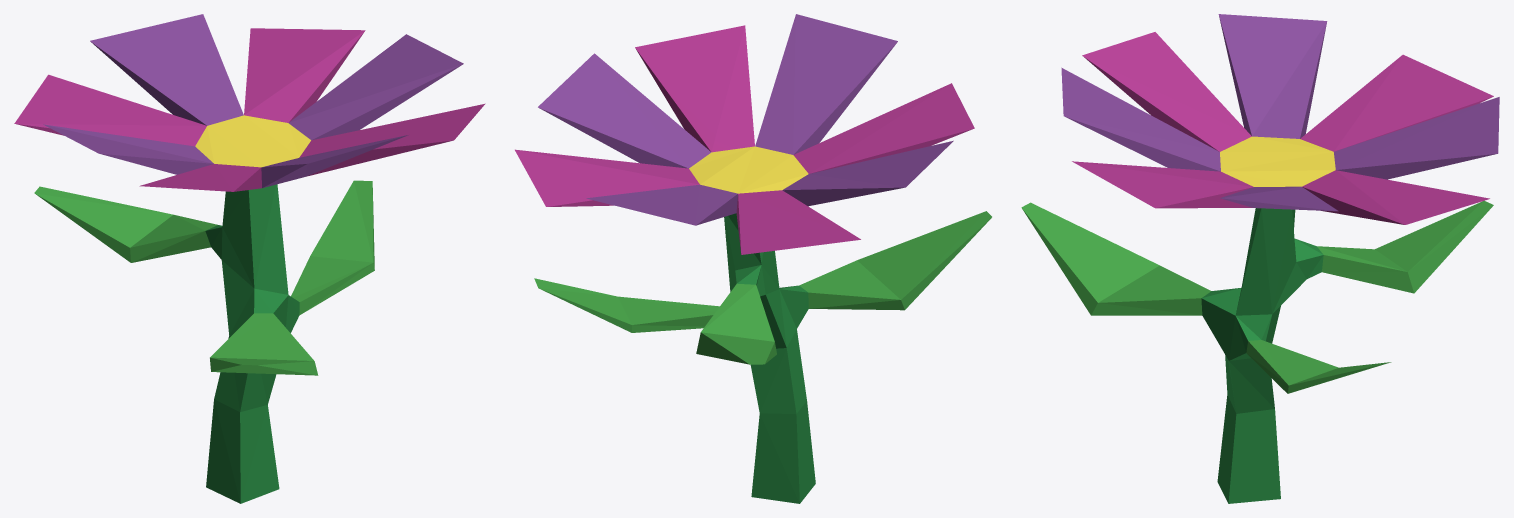
File: Flower.obj
3 renders of one model, left to right at view 1: azimuth 30°, elevation 25°; view 2: azimuth 150°, elevation 25°; view 3: azimuth 270°, elevation 25°, orthographic. The views are drawn at different scales.
Parts seen in each view (by area): view 1: Plane; view 2: Plane; view 3: Plane.
Boxes of the visible parts, <box> form: Plane: <box>14,14,485,503</box>; Plane: <box>515,14,991,503</box>; Plane: <box>1021,14,1499,503</box>.
Size of the model in its own units: 0.3899 by 0.4042 by 0.4238.
Materials: 1 (1 with a texture image).
